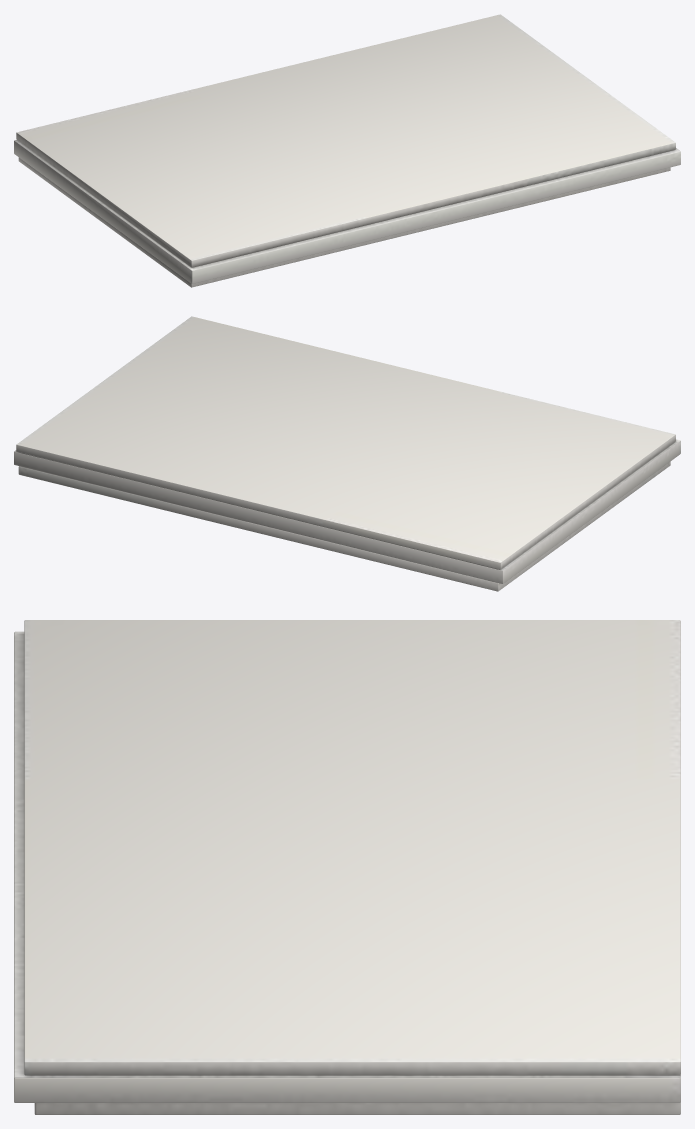
File: cornisa_clasica.glb
3 views of the same model, one above another, from view 1: azimuth 30°, elevation 25°; view 2: azimuth 150°, elevation 25°; view 3: azimuth 270°, elevation 25° (orthographic). The views are drawn at different scales.
Visible parts, largest first — view 1: cornisa_clasica; view 2: cornisa_clasica; view 3: cornisa_clasica.
Part boxes in pixels (x1,y1,x2,y2): cornisa_clasica: (14, 14, 680, 287); cornisa_clasica: (14, 316, 680, 591); cornisa_clasica: (14, 620, 680, 1114).
Bounding box in the file's own units: 20.6 × 1.2 × 13.
1 material, 1 textured.
